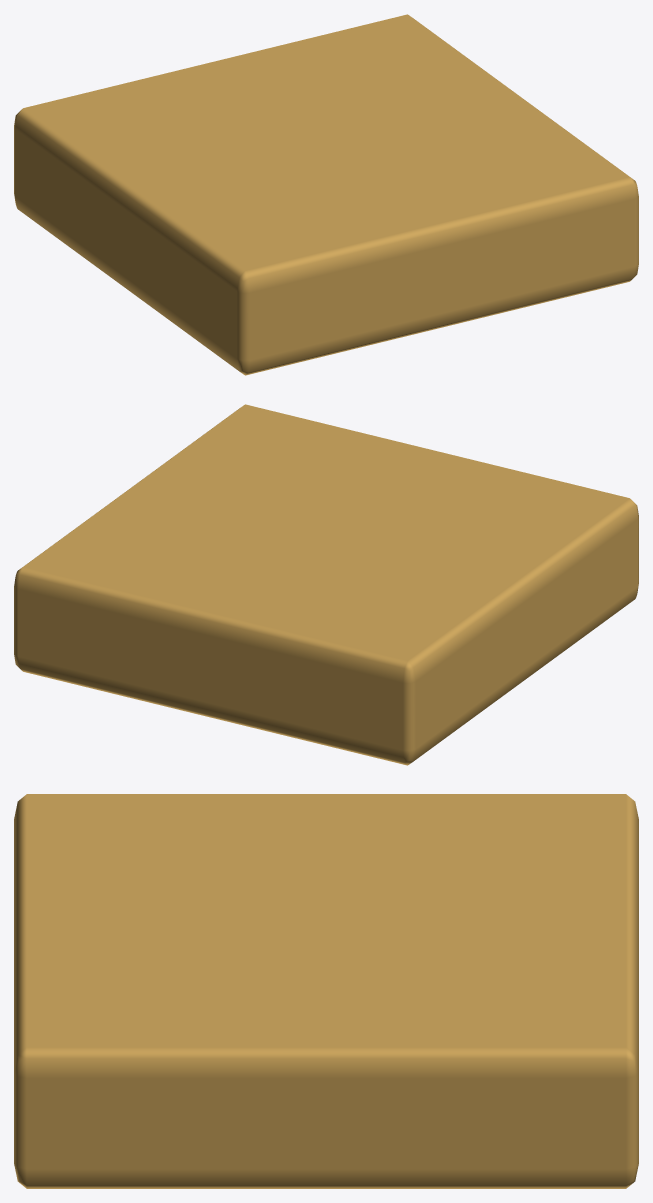
Rendered from wp-bloc-de-notes-adhesives.glb.
3 renders of one model, top to bottom at view 1: azimuth 30°, elevation 25°; view 2: azimuth 150°, elevation 25°; view 3: azimuth 270°, elevation 25°, orthographic. The views are drawn at different scales.
Visible parts, largest first — view 1: wp-bloc-de-notes-adhesives; view 2: wp-bloc-de-notes-adhesives; view 3: wp-bloc-de-notes-adhesives.
Boxes of the visible parts, bbox=[...] form: wp-bloc-de-notes-adhesives: bbox=[14, 14, 638, 375]; wp-bloc-de-notes-adhesives: bbox=[14, 404, 638, 765]; wp-bloc-de-notes-adhesives: bbox=[14, 794, 638, 1188].
Size of the model in its own units: 0.1 by 0.025 by 0.1.
